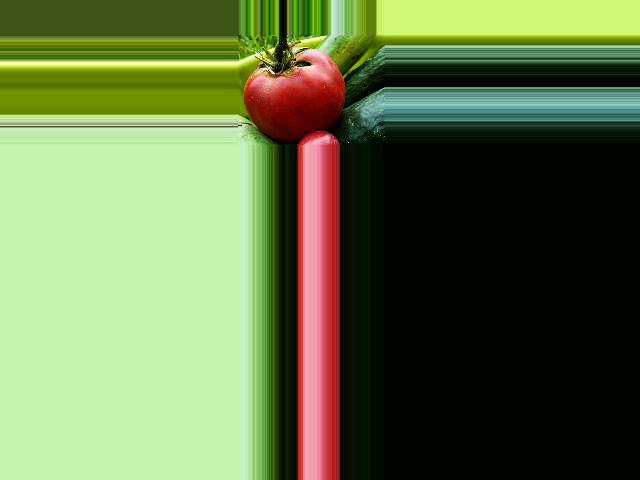tomato: (243, 48, 345, 143)
